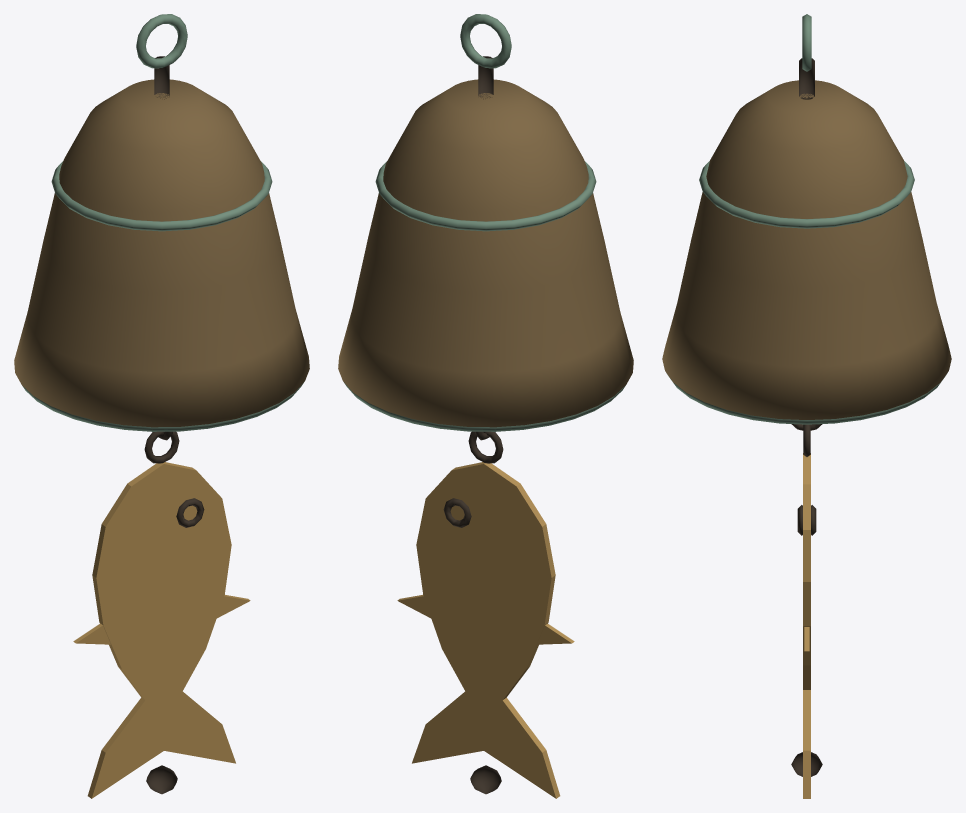
File: mindon-pungyeong.glb
3 views of the same model, side by side, from view 1: azimuth 30°, elevation 25°; view 2: azimuth 150°, elevation 25°; view 3: azimuth 270°, elevation 25° (orthographic). The views are drawn at different scales.
Parts seen in each view (by area): view 1: bell_body, fish_plate, bell_band, top_ring, bell_rim, fish_bead, chain2; view 2: bell_body, fish_plate, bell_band, top_ring, bell_rim, fish_bead, chain2; view 3: bell_body, fish_plate, bell_band, bell_rim, top_ring, stem.
Boxes of the visible parts, box(x1,y1,x2,y2) form: bell_body: box(14, 79, 309, 427); fish_plate: box(87, 462, 235, 798); bell_band: box(51, 161, 272, 231); top_ring: box(136, 14, 187, 68); bell_rim: box(22, 382, 303, 431); fish_bead: box(146, 765, 177, 794); chain2: box(144, 431, 179, 463); bell_body: box(338, 79, 633, 427); fish_plate: box(412, 462, 560, 798); bell_band: box(375, 161, 596, 231); top_ring: box(460, 14, 511, 68); bell_rim: box(344, 382, 625, 431); fish_bead: box(470, 765, 501, 794); chain2: box(468, 431, 503, 463); bell_body: box(662, 80, 951, 419); fish_plate: box(803, 453, 810, 798); bell_band: box(699, 161, 914, 228); bell_rim: box(666, 373, 947, 424); top_ring: box(802, 14, 811, 71); stem: box(799, 58, 814, 99).
Bounding box in the file's own units: 0.22 × 0.639 × 0.22.
